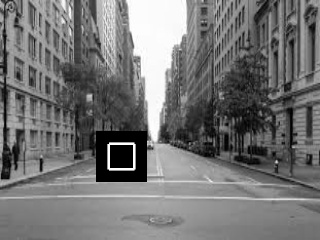square: (96, 131, 147, 182)
